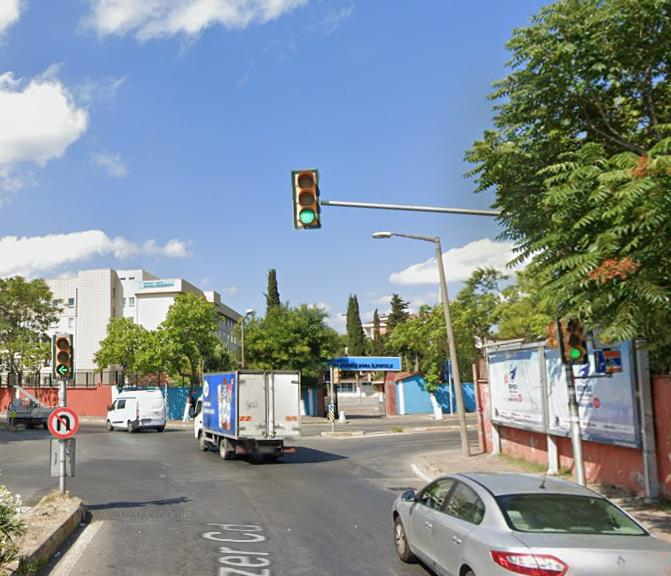greenlight: (291, 168, 324, 230), (556, 305, 586, 367), (52, 330, 74, 379)
